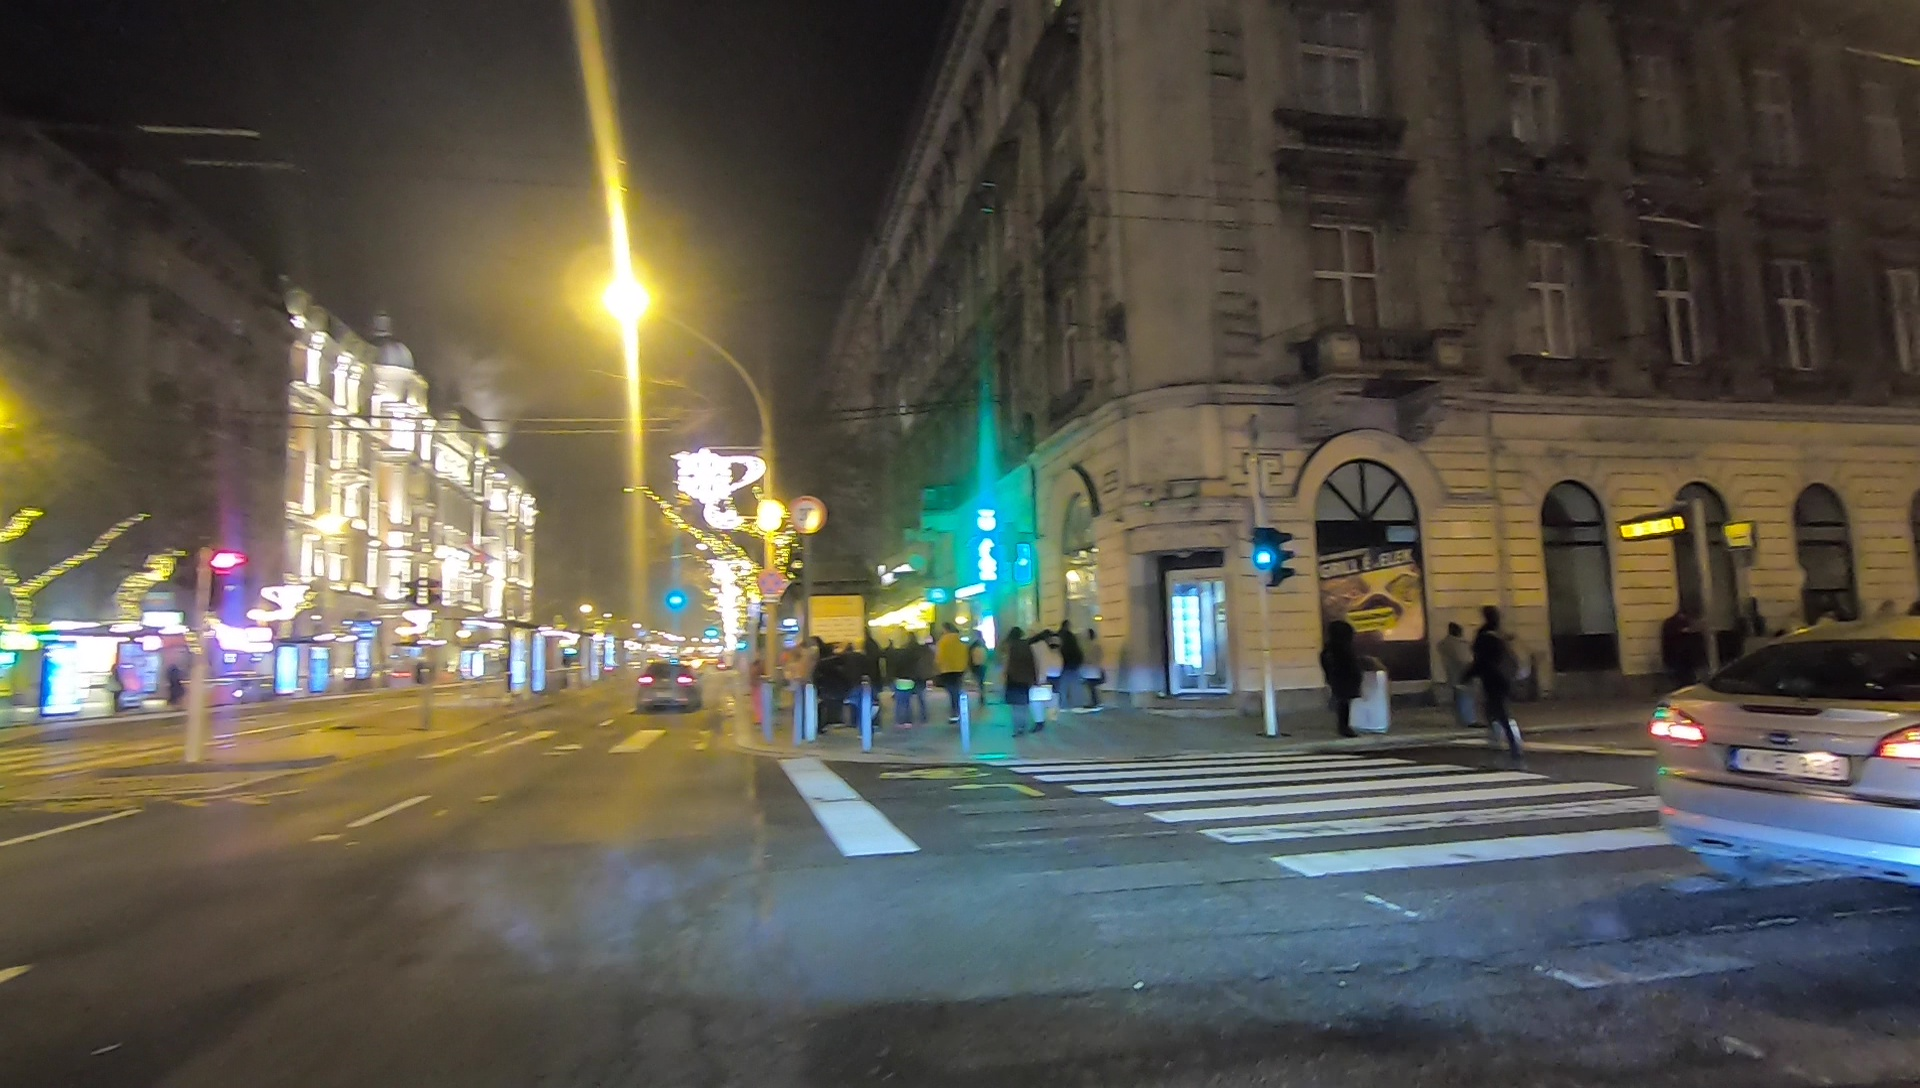person: (1472, 606, 1536, 769), (1322, 624, 1382, 744), (1436, 624, 1476, 730), (1657, 605, 1695, 716), (937, 624, 966, 720), (1010, 622, 1032, 735), (907, 631, 935, 717), (792, 637, 817, 728), (887, 636, 912, 722), (822, 641, 845, 725), (1060, 625, 1081, 719), (860, 634, 882, 722), (968, 628, 992, 706), (1081, 624, 1103, 711), (1032, 629, 1051, 726), (745, 654, 764, 722)
